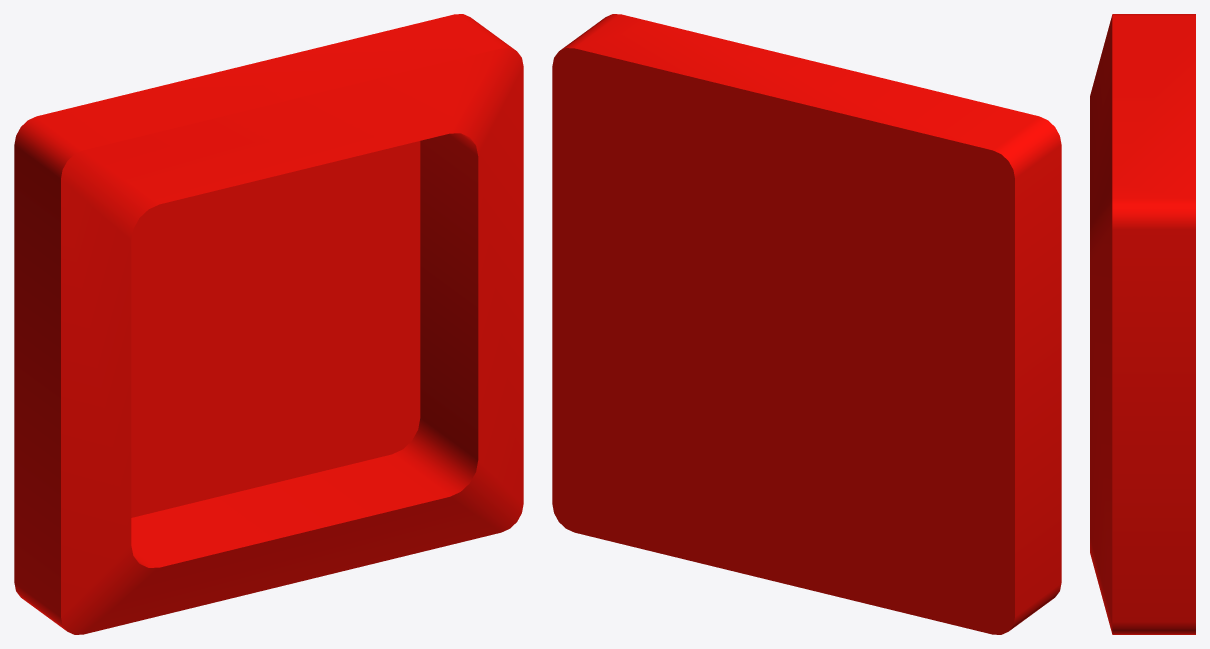
The model's file is SocketCase01.fbx.
3 renders of one model, left to right at view 1: azimuth 30°, elevation 25°; view 2: azimuth 150°, elevation 25°; view 3: azimuth 270°, elevation 25°, orthographic. The views are drawn at different scales.
Visible parts, largest first — view 1: SocketCase01; view 2: SocketCase01; view 3: SocketCase01.
Boxes of the visible parts, x1=… form: SocketCase01: x1=14, y1=14, x2=523, y2=634; SocketCase01: x1=552, y1=14, x2=1061, y2=634; SocketCase01: x1=1090, y1=14, x2=1195, y2=634.
Bounding box in the file's own units: 8 × 8 × 1.77.
